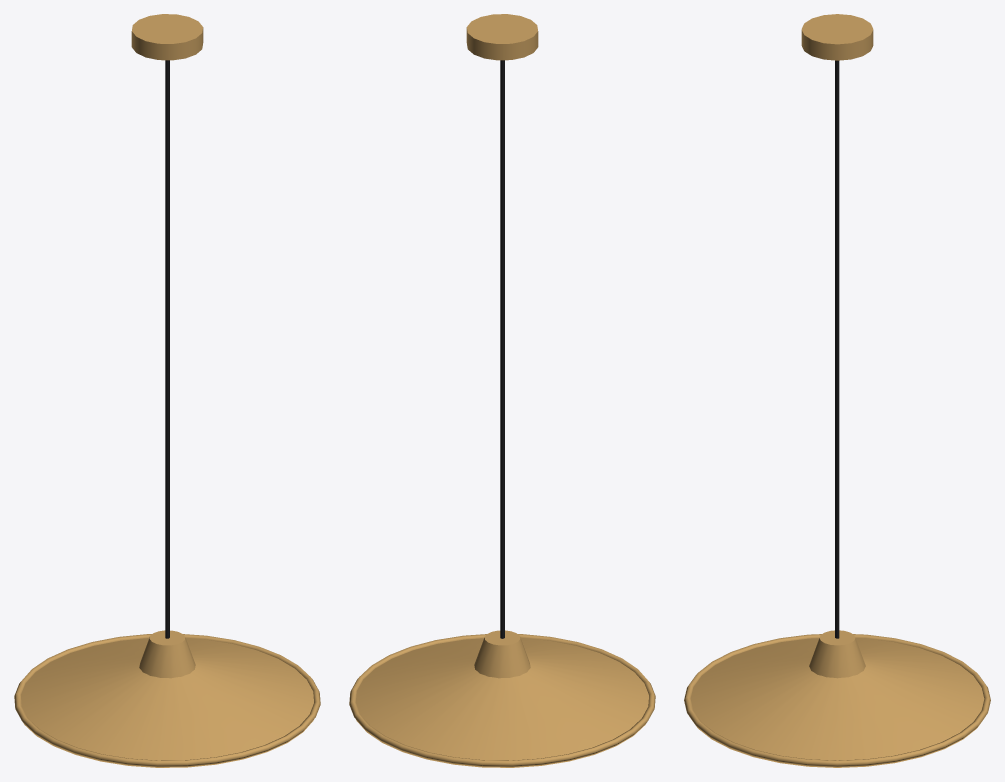
The model's file is pendant_dish.glb.
The picture shows the model from 3 angles, left to right: view 1: azimuth 30°, elevation 25°; view 2: azimuth 150°, elevation 25°; view 3: azimuth 270°, elevation 25°; orthographic projection.
Parts seen in each view (by area): view 1: Mesh_Dish, Mesh_Rim, Mesh_Canopy, Mesh_Cord, Mesh_Hub; view 2: Mesh_Dish, Mesh_Rim, Mesh_Canopy, Mesh_Cord, Mesh_Hub; view 3: Mesh_Dish, Mesh_Rim, Mesh_Canopy, Mesh_Cord, Mesh_Hub.
Part boxes in pixels (x1,y1,x2,y2): Mesh_Dish: [21, 638, 313, 767]; Mesh_Rim: [14, 634, 320, 767]; Mesh_Canopy: [131, 14, 203, 60]; Mesh_Cord: [165, 60, 169, 638]; Mesh_Hub: [139, 630, 195, 678]; Mesh_Dish: [356, 638, 648, 767]; Mesh_Rim: [349, 634, 655, 767]; Mesh_Canopy: [466, 14, 538, 60]; Mesh_Cord: [500, 60, 504, 638]; Mesh_Hub: [474, 630, 530, 678]; Mesh_Dish: [690, 638, 984, 767]; Mesh_Rim: [684, 634, 990, 767]; Mesh_Canopy: [801, 14, 873, 60]; Mesh_Cord: [835, 60, 839, 638]; Mesh_Hub: [809, 630, 865, 678].
Size of the model in its own units: 0.512 by 1.24 by 0.512.
